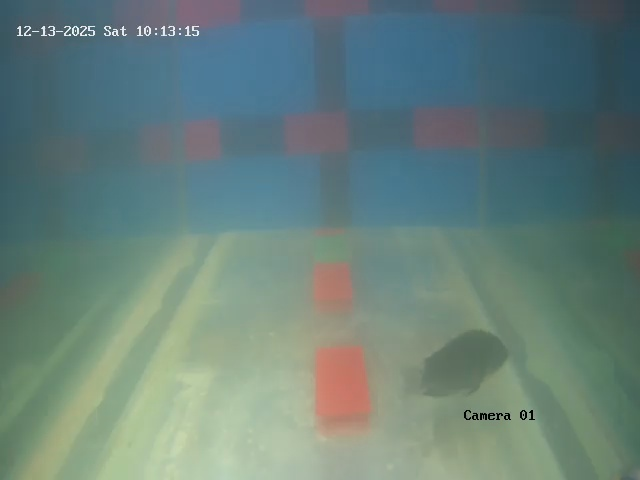fish: (412, 327, 512, 401)
